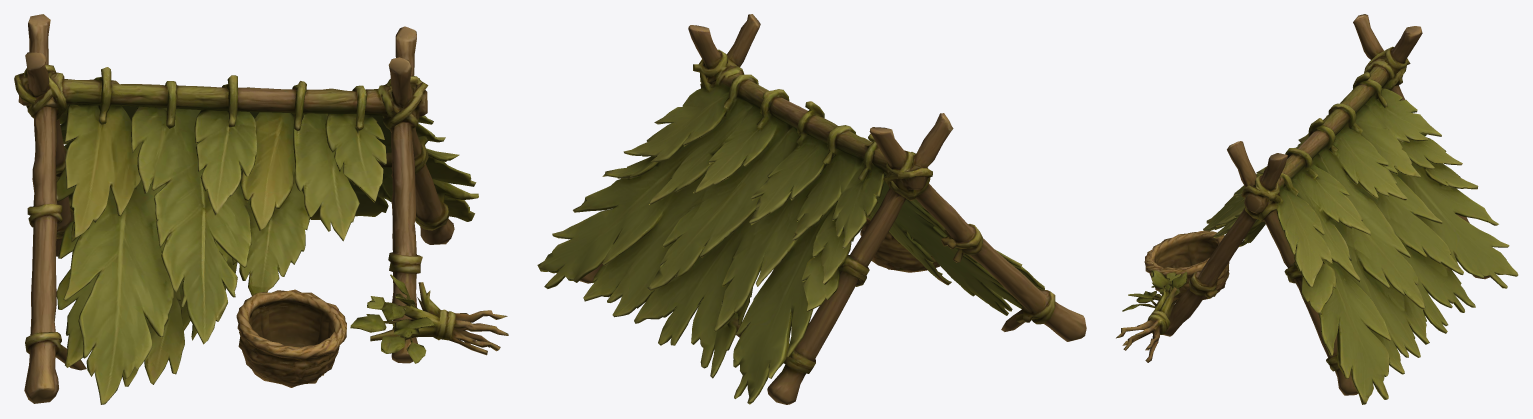
File: Foraging Tent (Mesoamerican).fbx
3 renders of one model, left to right at view 1: azimuth 30°, elevation 25°; view 2: azimuth 150°, elevation 25°; view 3: azimuth 270°, elevation 25°, orthographic. The views are drawn at different scales.
Visible parts, largest first — view 1: tripo_node_0eb6b1be; view 2: tripo_node_0eb6b1be; view 3: tripo_node_0eb6b1be.
Part boxes in pixels (x1,y1,x2,y2): tripo_node_0eb6b1be: [14, 14, 508, 404]; tripo_node_0eb6b1be: [537, 14, 1086, 404]; tripo_node_0eb6b1be: [1116, 14, 1518, 404].
Bounding box in the file's own units: 1 × 0.5174 × 0.8375.
